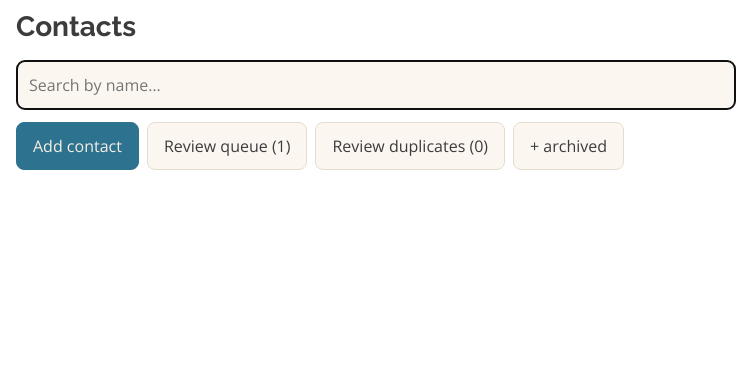
Test: held merges in the review queue (feature 069) › lets a dedup worker resolve a two-account hold
Click the button "Review queue (1)". click: {"x": 227, "y": 146}
box: [147,122,308,170]
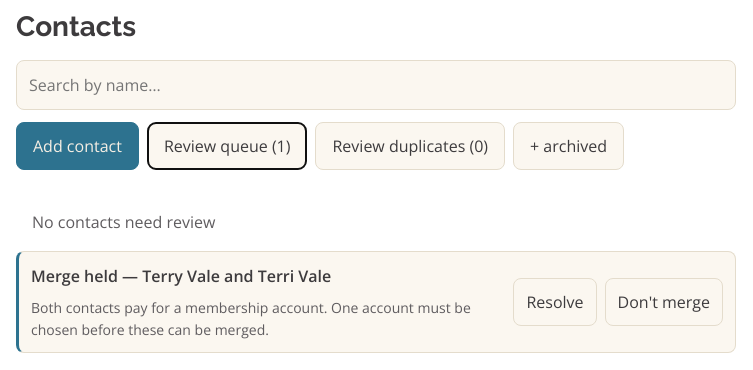
Check: the text "Both contacts pay for a membership account" is shown, box [31,298,471,339]
Check: the button "Resolve" is shown, box [514,278,597,326]
